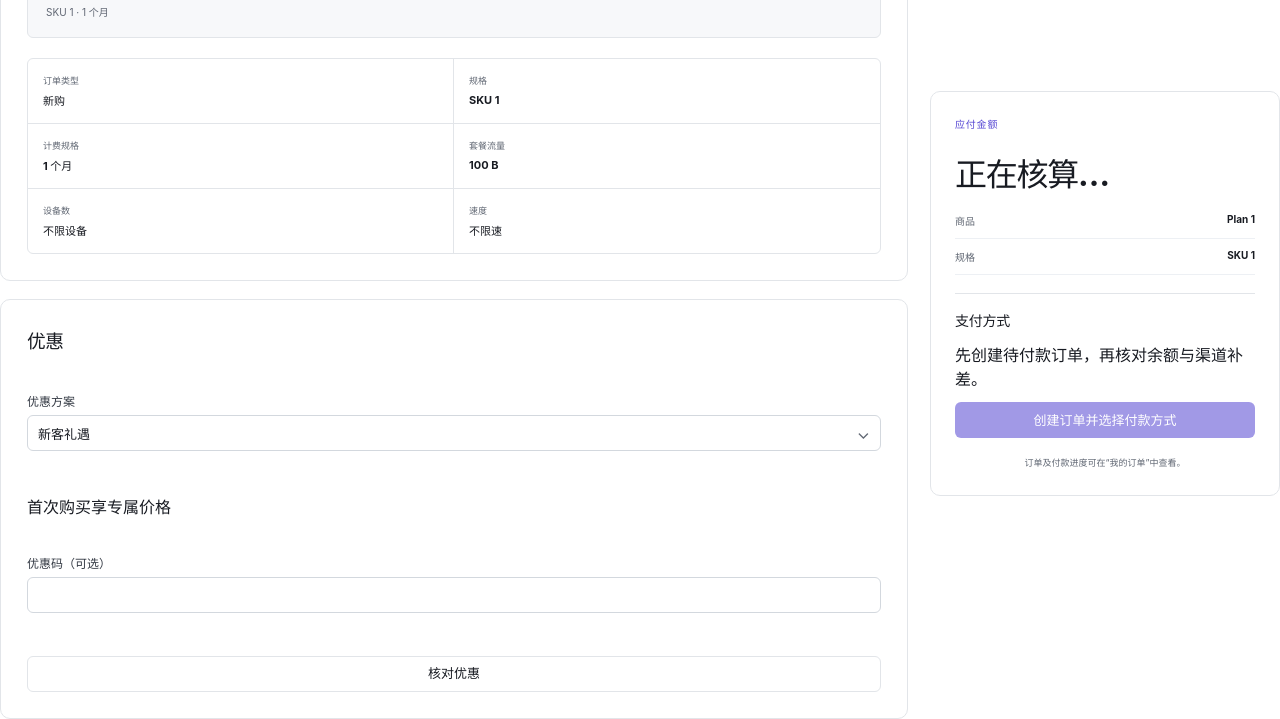
Test case: account catalog bounded reads and route isolation › clears prior-identity discounts before showing another account checkout
(page scrolled)
Step 1. Type "WELCOME" into the field labelled "优惠码（可选）" → (454, 595), box x1=27 y1=577 x2=881 y2=613
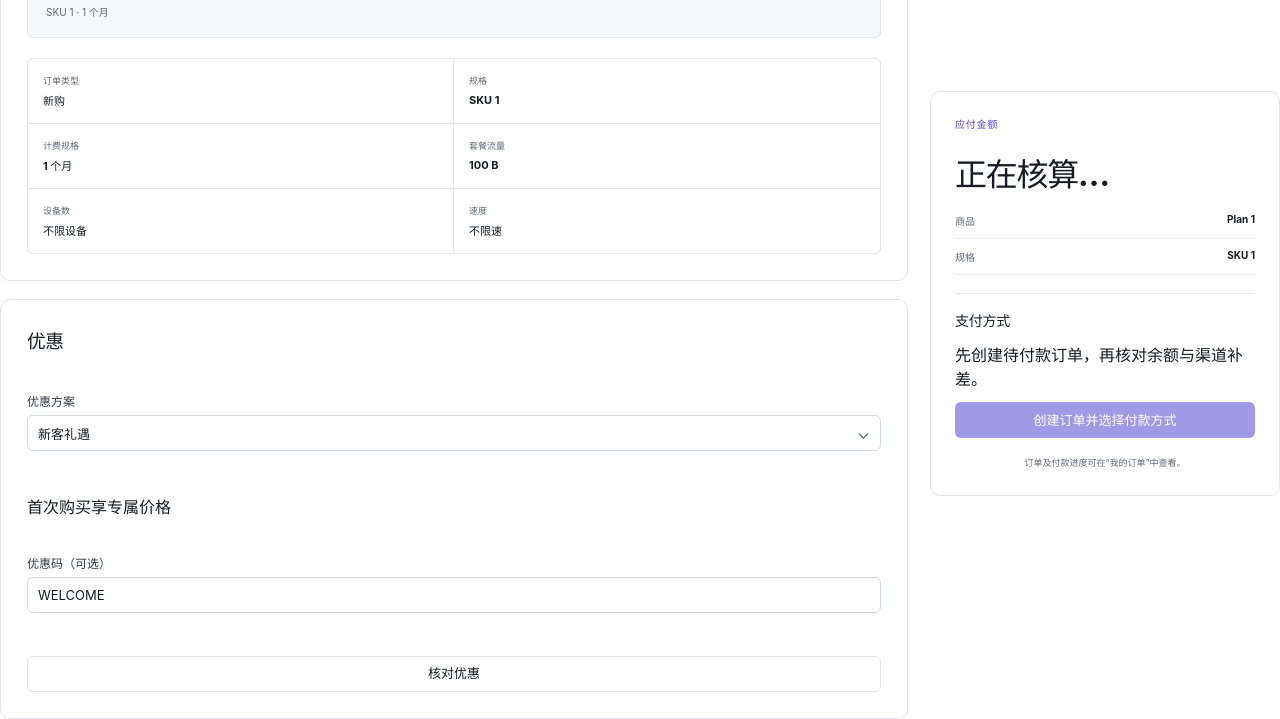
Step 2. Click the button "核对优惠" → (454, 674), box x1=27 y1=656 x2=881 y2=692
(page scrolled)
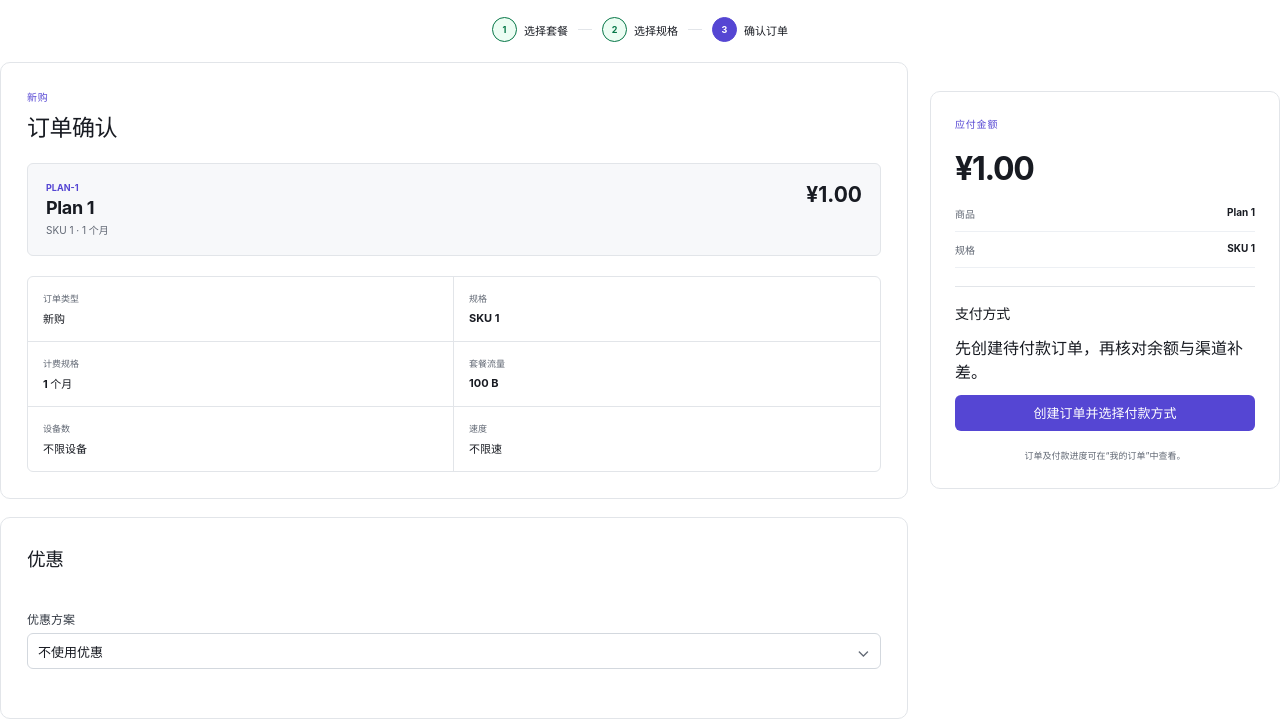
Result: the text "不使用优惠" is shown at x1=38 y1=642 x2=103 y2=660
